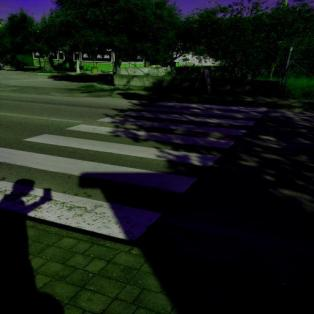Paso de Cebra: (22, 123, 238, 169)
